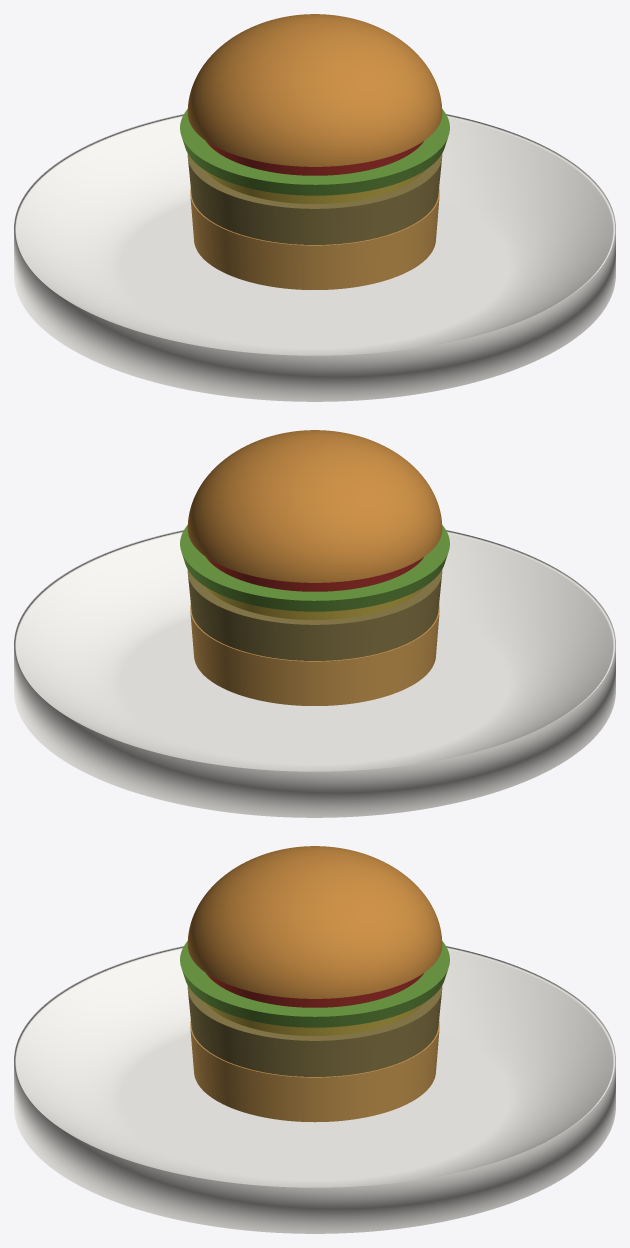
Rendered from burger-4-hero.glb.
The picture shows the model from 3 angles, top to bottom: view 1: azimuth 30°, elevation 25°; view 2: azimuth 150°, elevation 25°; view 3: azimuth 270°, elevation 25°; orthographic projection.
Size of the model in its own units: 0.26 by 0.1166 by 0.26.
